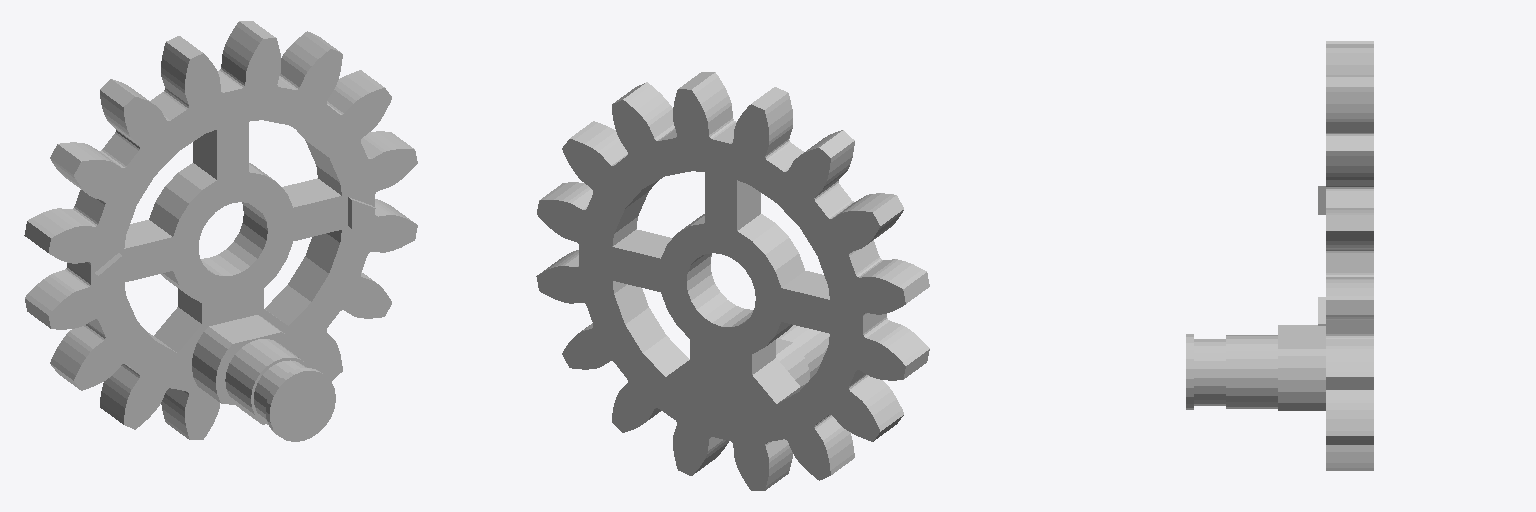
Rendered from RS_Gear_v1.obj.
The picture shows the model from 3 angles: view 1: azimuth 30°, elevation 25°; view 2: azimuth 150°, elevation 25°; view 3: azimuth 270°, elevation 25°; orthographic projection.
Parts seen in each view (by area): view 1: Mesh7 Group9 Group1 Model, Mesh5 Group7 _____29_1 Group4 Group1 Model, Mesh3 Group5 Group4 Group1 Model, Mesh4 Group6 _____29_1 Group4 Group1 Model, Mesh6 Group8 _____29_1 Group4 Group1 Model; view 2: Mesh7 Group9 Group1 Model, Mesh4 Group6 _____29_1 Group4 Group1 Model, Mesh3 Group5 Group4 Group1 Model; view 3: Mesh7 Group9 Group1 Model, Mesh3 Group5 Group4 Group1 Model, Mesh4 Group6 _____29_1 Group4 Group1 Model, Mesh6 Group8 _____29_1 Group4 Group1 Model, Mesh5 Group7 _____29_1 Group4 Group1 Model.
Part boxes in pixels (x1,y1,x2,y2): Mesh7 Group9 Group1 Model: (24, 21, 417, 439); Mesh5 Group7 _____29_1 Group4 Group1 Model: (266, 368, 335, 441); Mesh3 Group5 Group4 Group1 Model: (192, 315, 297, 405); Mesh4 Group6 _____29_1 Group4 Group1 Model: (225, 339, 309, 424); Mesh6 Group8 _____29_1 Group4 Group1 Model: (254, 360, 306, 420); Mesh7 Group9 Group1 Model: (536, 72, 929, 490); Mesh4 Group6 _____29_1 Group4 Group1 Model: (778, 325, 825, 378); Mesh3 Group5 Group4 Group1 Model: (776, 338, 809, 386); Mesh7 Group9 Group1 Model: (1326, 41, 1373, 470); Mesh3 Group5 Group4 Group1 Model: (1278, 325, 1325, 410); Mesh4 Group6 _____29_1 Group4 Group1 Model: (1226, 335, 1277, 408); Mesh6 Group8 _____29_1 Group4 Group1 Model: (1194, 339, 1225, 405); Mesh5 Group7 _____29_1 Group4 Group1 Model: (1186, 334, 1193, 409).
Size of the model in its own units: 26.66 by 26.66 by 11.7.